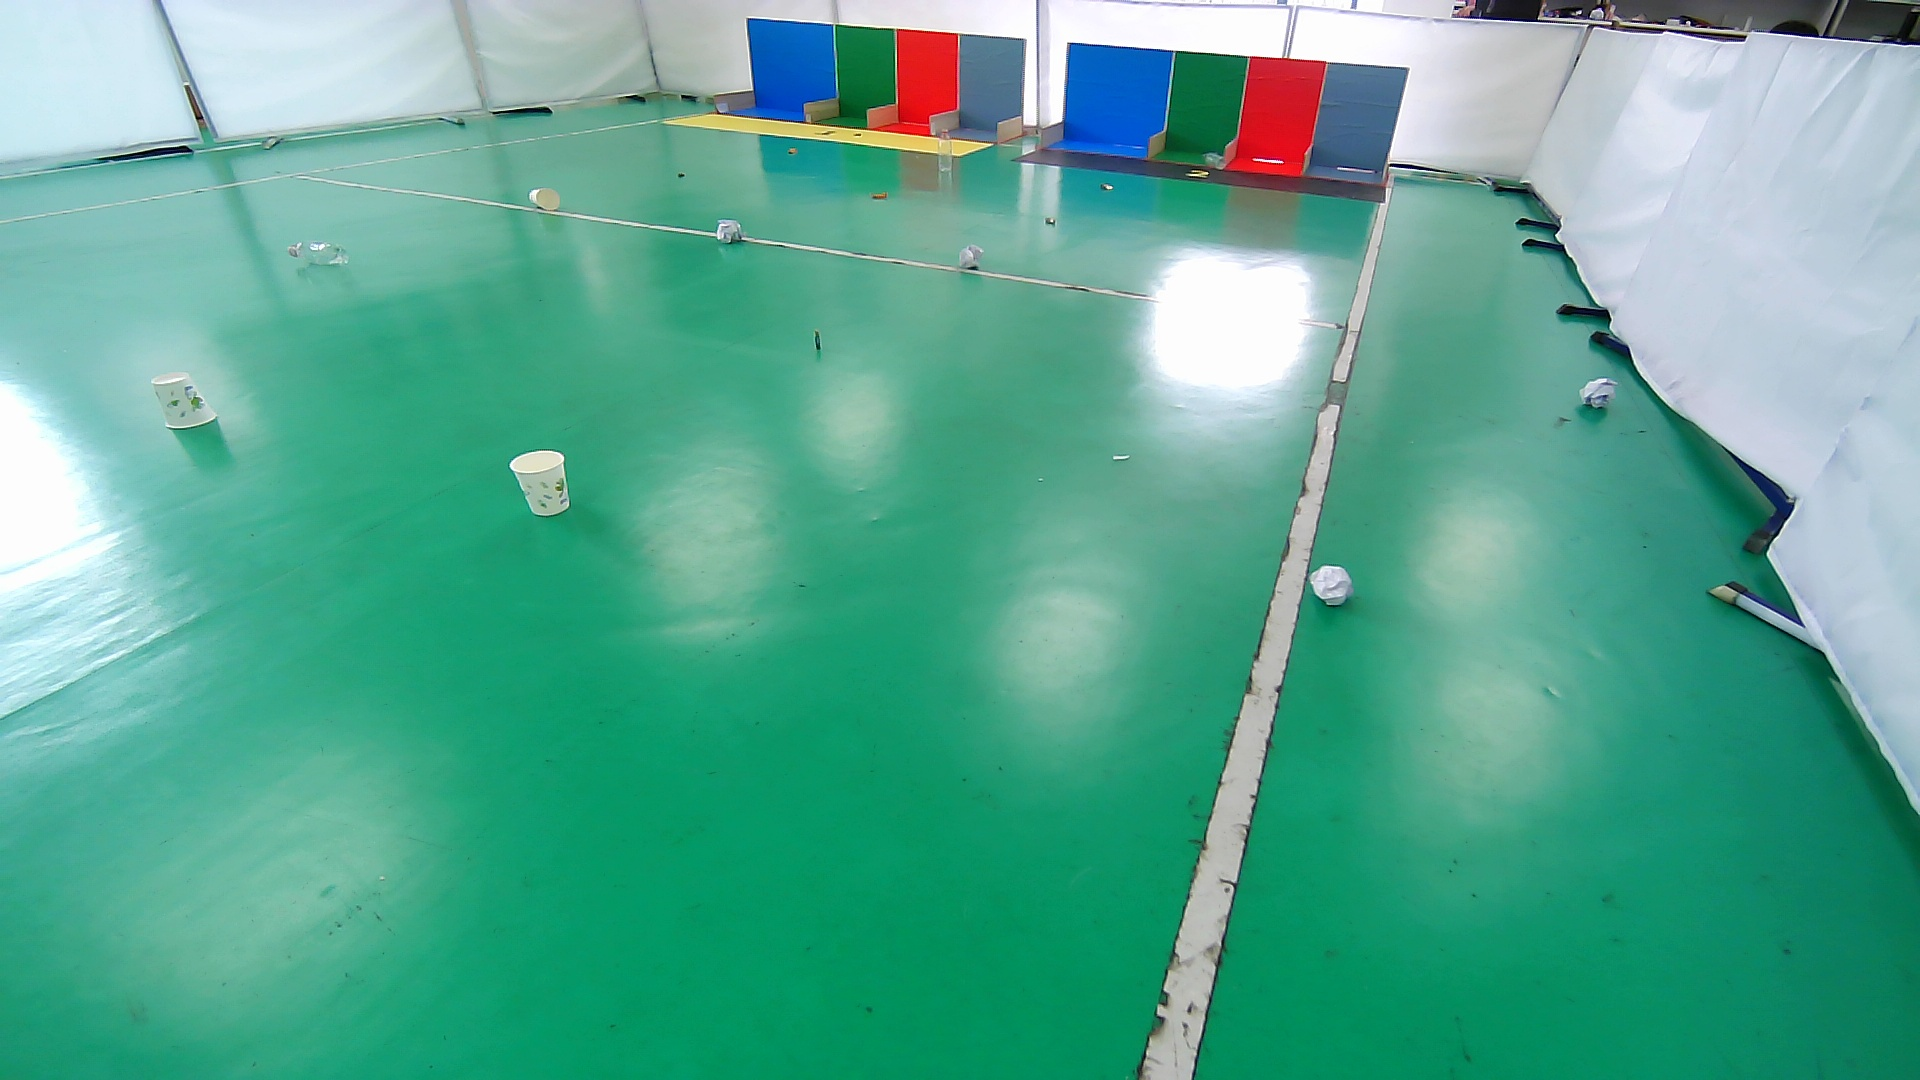battery: (807, 326, 831, 357), (669, 165, 694, 185), (1039, 212, 1062, 229)
bottle: (284, 235, 353, 272), (936, 127, 953, 173), (1203, 152, 1228, 170)
orangepeel: (866, 186, 891, 206), (781, 141, 804, 160)
papercup: (505, 438, 583, 521), (149, 367, 222, 433), (527, 185, 564, 216)
spitball: (1305, 563, 1360, 608), (1576, 373, 1619, 414), (712, 218, 748, 251), (955, 244, 992, 276)
